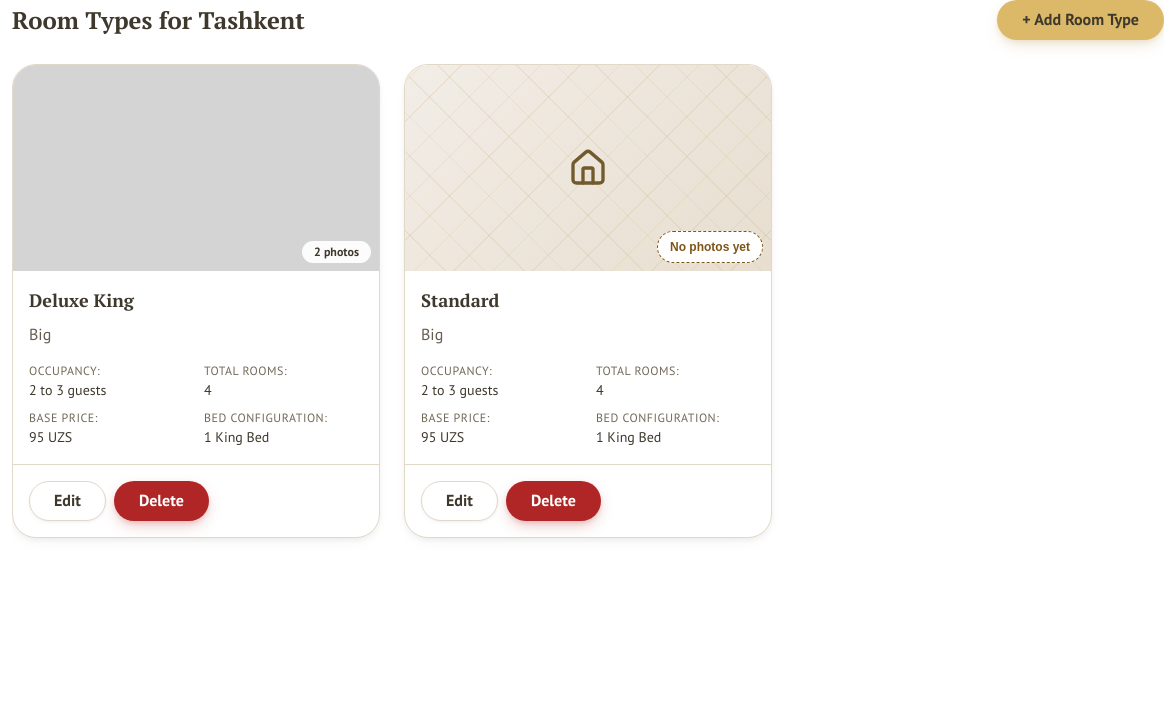
it: PartnerRoomsManagement photos › editing a room type shows its photo manager
The image size is (1176, 720).
Click the button with aria-label "Edit Deluxe King" at point(67, 501), box left=29, top=481, right=106, bottom=521
(page scrolled)
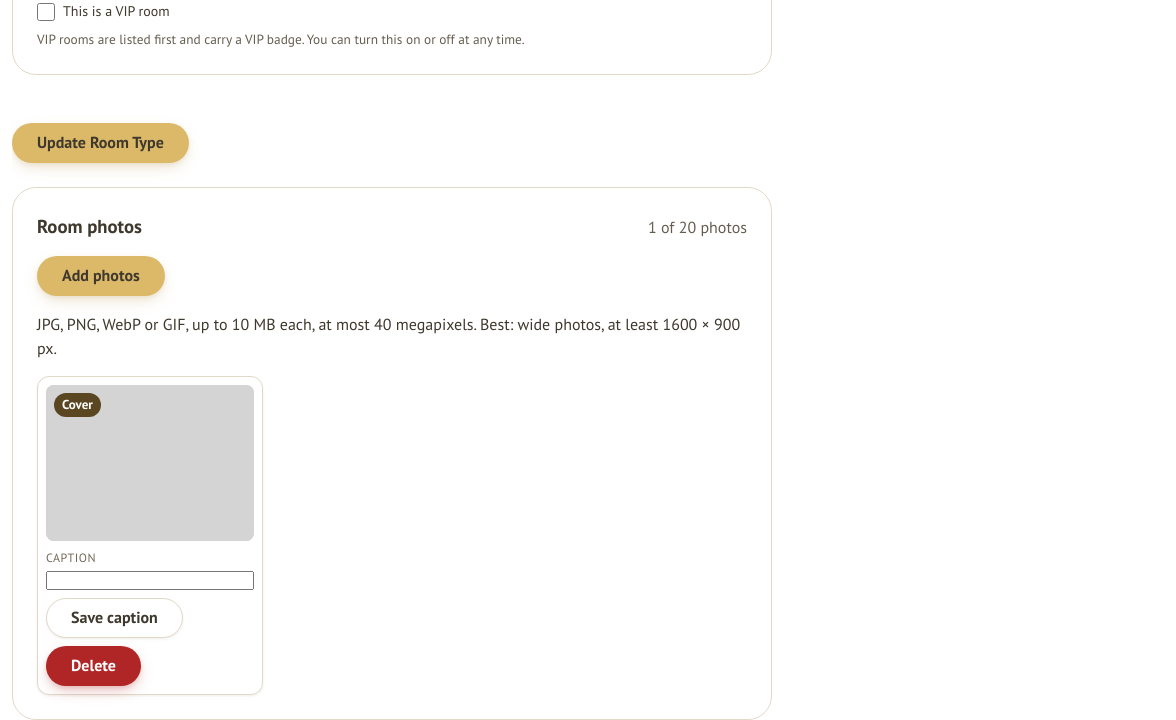
expect the heading "Room photos" is shown: met, box left=37, top=212, right=142, bottom=240
expect the text "Cover" is shown: met, box left=54, top=393, right=101, bottom=417
